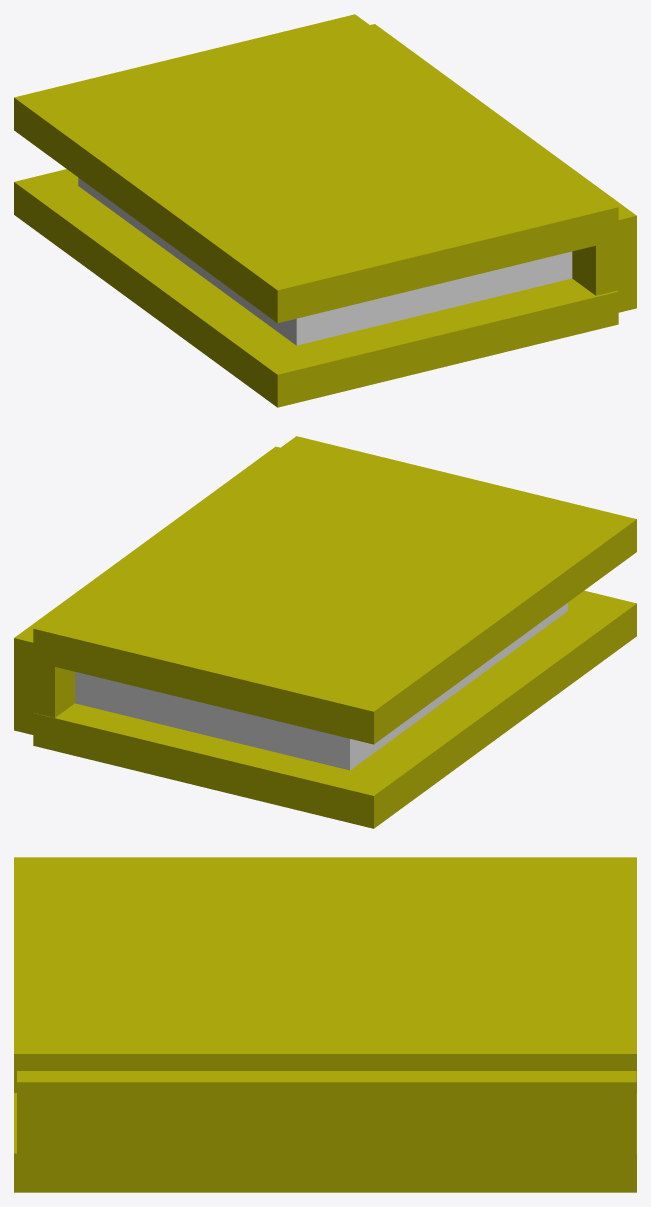
The model's file is notebookmodel.fbx.
The picture shows the model from 3 angles, top to bottom: view 1: azimuth 30°, elevation 25°; view 2: azimuth 150°, elevation 25°; view 3: azimuth 270°, elevation 25°; orthographic projection. The views are drawn at different scales.
Visible parts, largest first — view 1: middlenotebook1; view 2: middlenotebook1; view 3: middlenotebook1.
Part boxes in pixels (x1=…): middlenotebook1: x1=14, y1=14, x2=636, y2=407; middlenotebook1: x1=14, y1=436, x2=636, y2=828; middlenotebook1: x1=14, y1=857, x2=636, y2=1192.
Size of the model in its own units: 0.7343 by 0.2282 by 0.9295.
